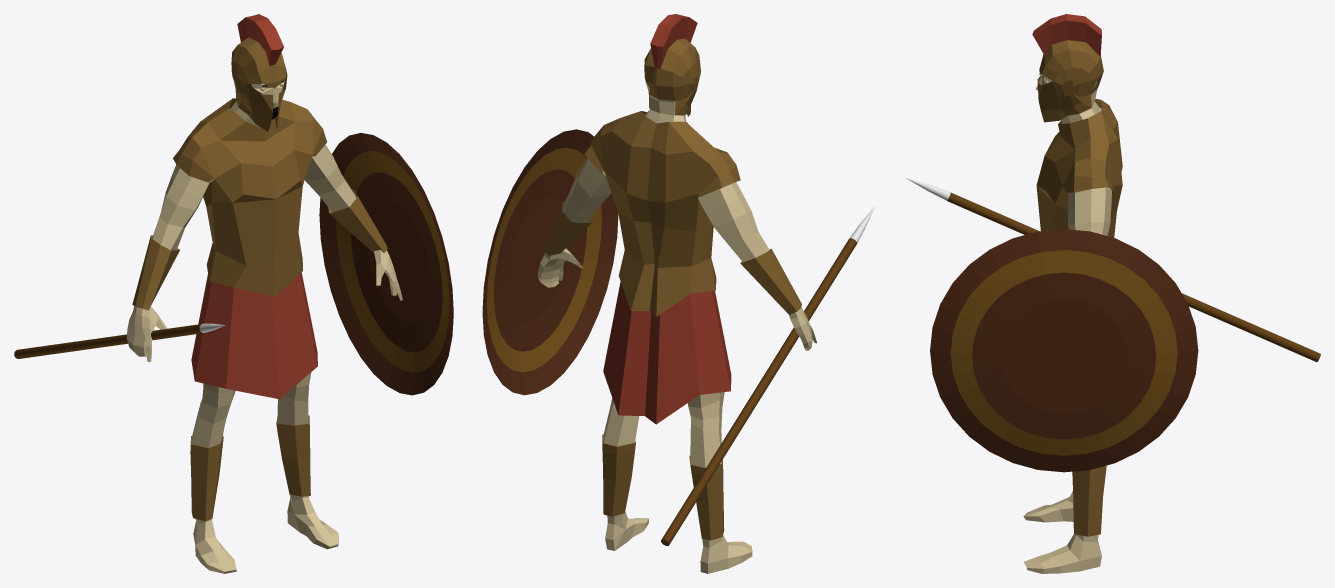
Rendered from main_hero.fbx.
The picture shows the model from 3 angles, left to right: view 1: azimuth 30°, elevation 25°; view 2: azimuth 150°, elevation 25°; view 3: azimuth 270°, elevation 25°; orthographic projection.
Parts seen in each view (by area): view 1: male.001, Circle, male, male.004, male.003, male.002, Cylinder; view 2: male.001, Circle, male, male.004, male.003, Cylinder, male.002; view 3: Circle, male.001, male.004, male, Cylinder, male.003.
Part boxes in pixels (box(x1,y1,x2,y2)): male.001: box(173, 98, 326, 399); Circle: box(319, 133, 453, 395); male: box(127, 79, 402, 573); male.004: box(231, 14, 287, 131); male.003: box(190, 415, 310, 521); male.002: box(132, 188, 387, 310); Cylinder: box(14, 323, 225, 358); male.001: box(584, 111, 740, 424); Circle: box(482, 129, 618, 395); male: box(537, 84, 816, 573); male.004: box(644, 14, 700, 116); male.003: box(602, 434, 724, 540); Cylinder: box(661, 206, 874, 545); male.002: box(543, 201, 801, 314); Circle: box(930, 229, 1198, 472); male.001: box(1036, 98, 1122, 237); male.004: box(1032, 14, 1103, 122); male: box(1023, 75, 1111, 573); Cylinder: box(905, 177, 1320, 362); male.003: box(1072, 465, 1106, 536).
Bounding box in the file's own units: 198 × 369 × 266.
